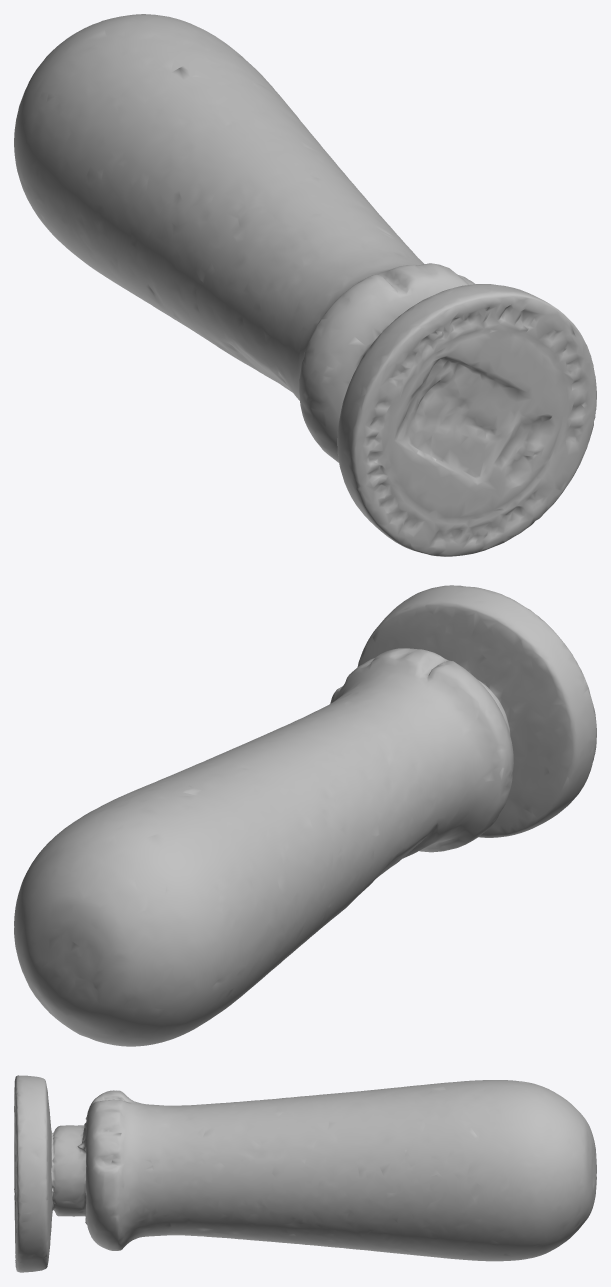
3 renders of one model, top to bottom at view 1: azimuth 30°, elevation 25°; view 2: azimuth 150°, elevation 25°; view 3: azimuth 270°, elevation 25°, orthographic. The views are drawn at different scales.
Visible parts, largest first — view 1: object; view 2: object; view 3: object.
Boxes of the visible parts, x1=… form: object: x1=14, y1=14, x2=596, y2=556; object: x1=14, y1=585, x2=596, y2=1046; object: x1=14, y1=1075, x2=596, y2=1272.
Size of the model in its own units: 33.04 by 32 by 92.67.
Materials: 1 (1 with a texture image).
